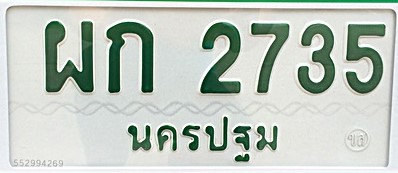txt01: (103, 19, 157, 95)
txt23: (40, 18, 97, 95)
